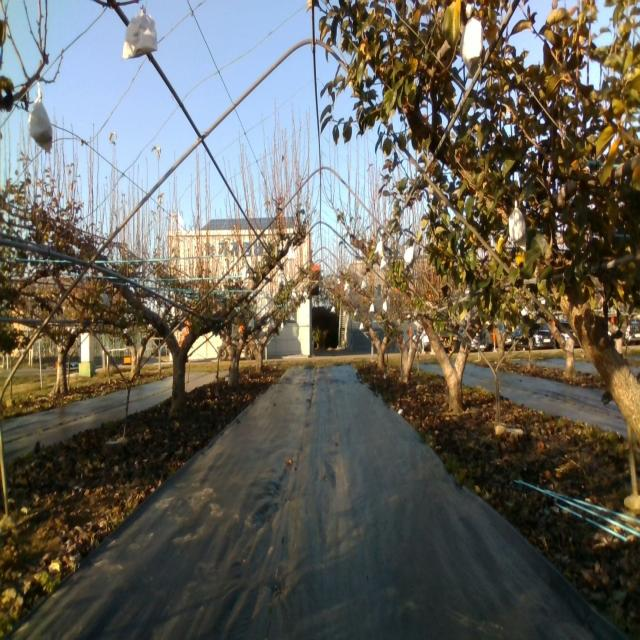pearbags: (122, 5, 159, 61), (26, 88, 50, 154), (460, 18, 483, 70), (508, 208, 526, 249), (404, 247, 414, 267)
